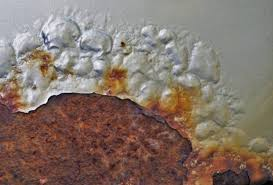rust: (2, 76, 202, 183), (196, 155, 266, 185), (94, 64, 132, 97), (116, 38, 129, 51)
